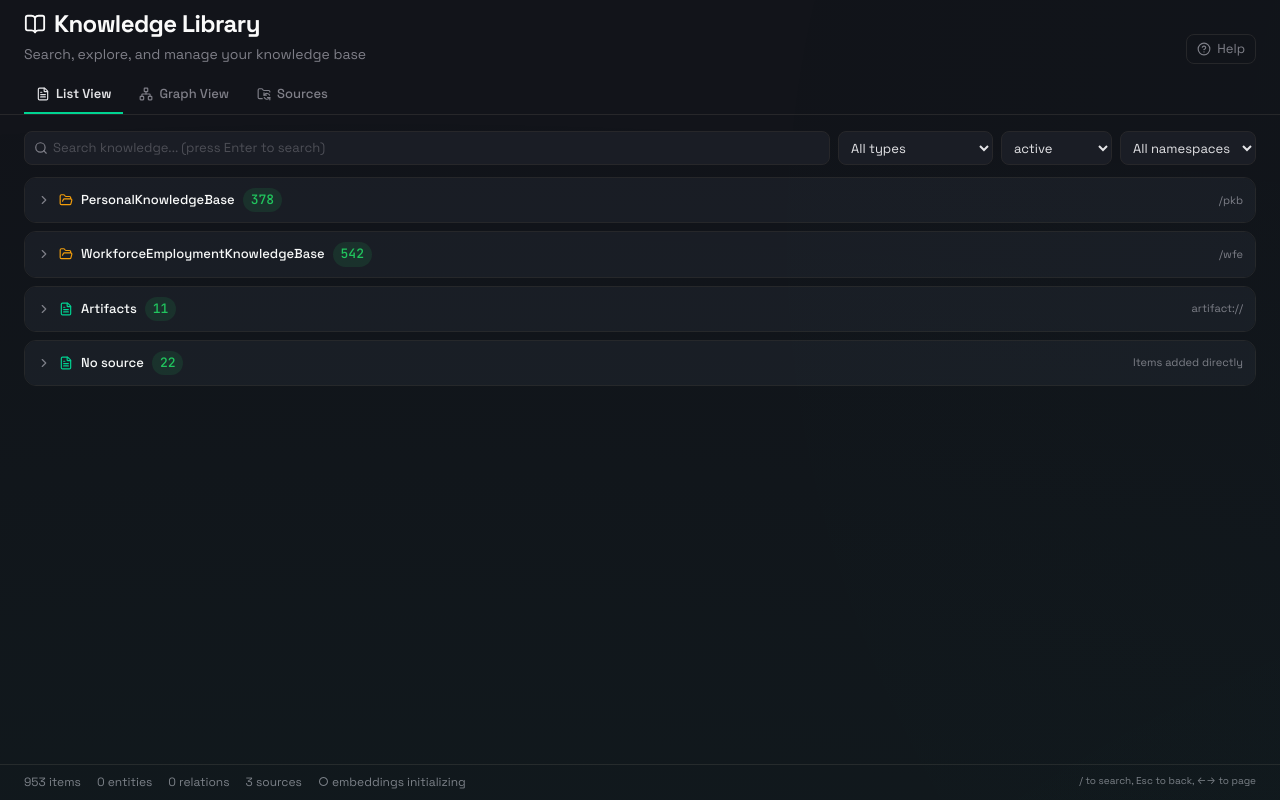
Test: Knowledge List View — source-first rows › drops selected IDs when their source collapses off screen
Click the text "Artifacts". click: {"x": 109, "y": 309}
box: x1=81 y1=299 x2=137 y2=319
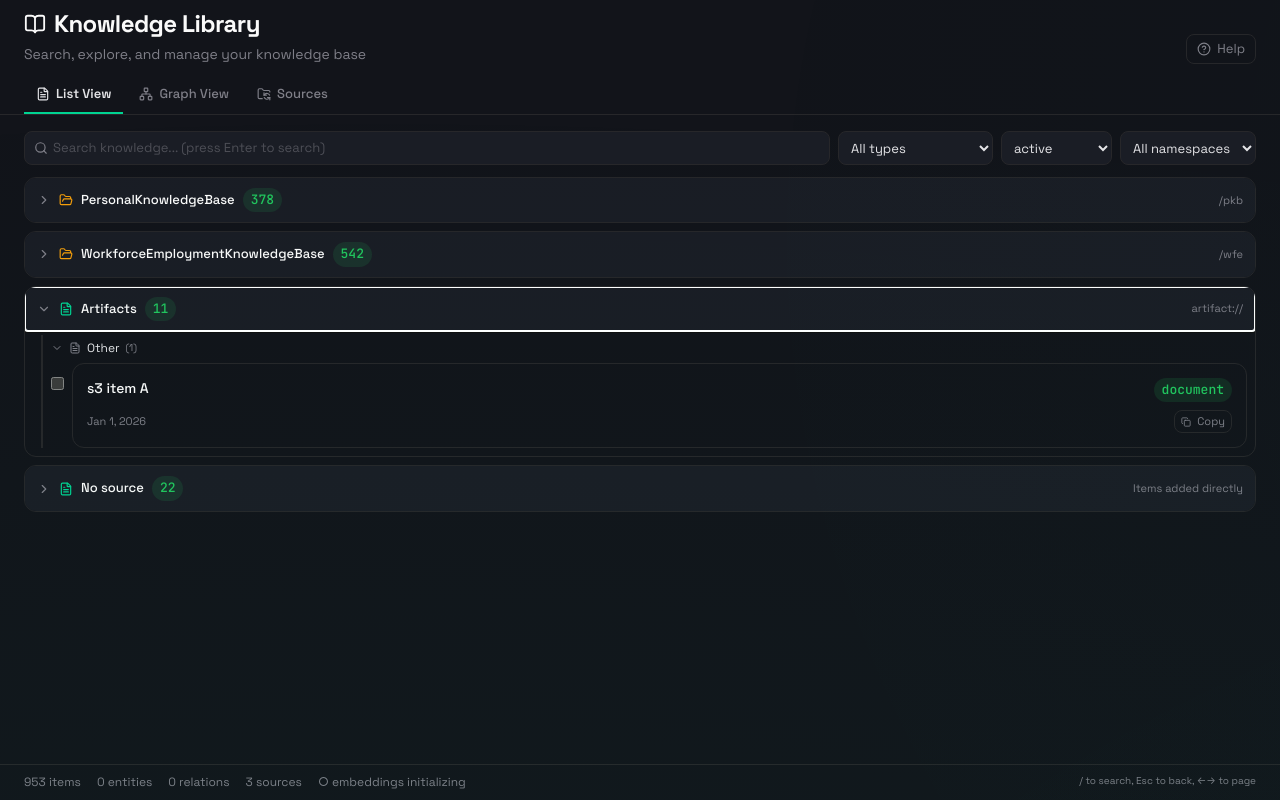
Click the checkbox named "Select s3 item A". click: {"x": 58, "y": 384}
box: x1=51 y1=377 x2=64 y2=390
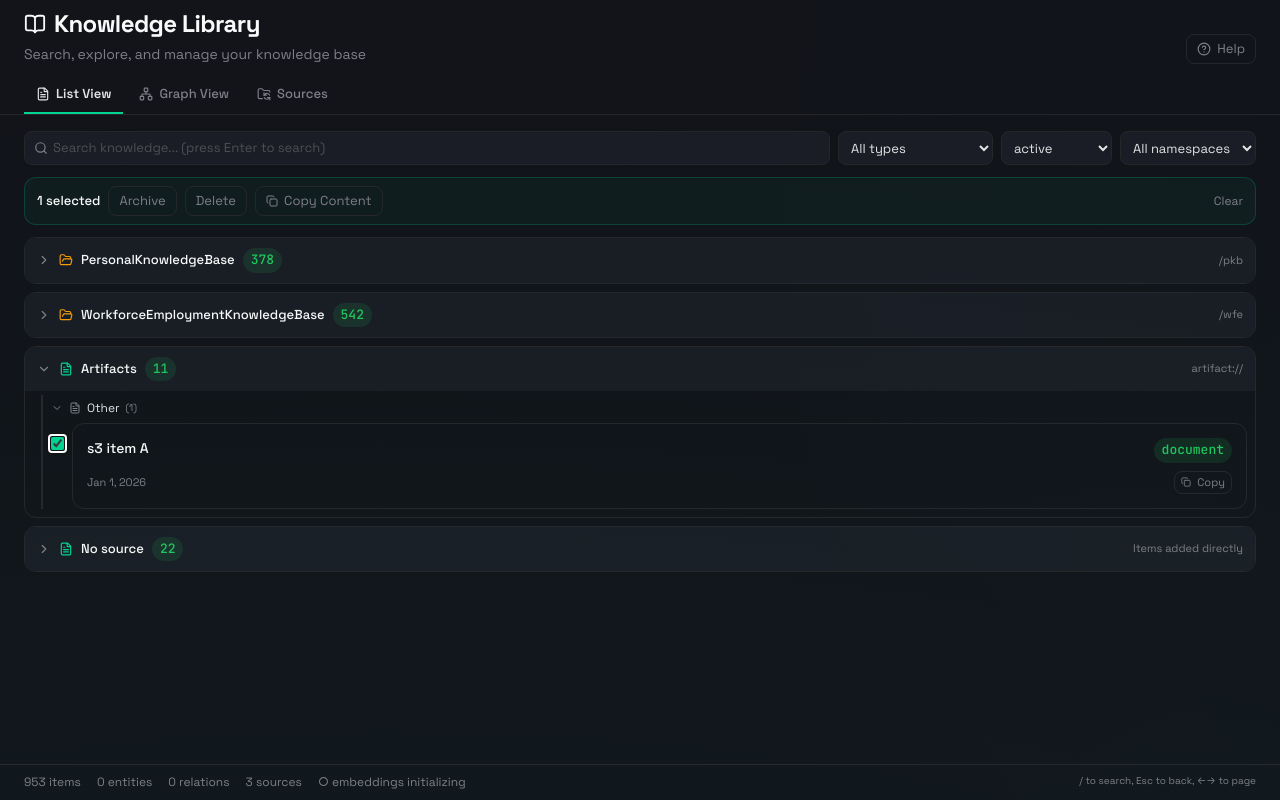
Check: the text "1 selected" is shown, box x1=37 y1=191 x2=100 y2=211
Click the text "Artifacts". click: {"x": 109, "y": 369}
box: x1=81 y1=359 x2=137 y2=379
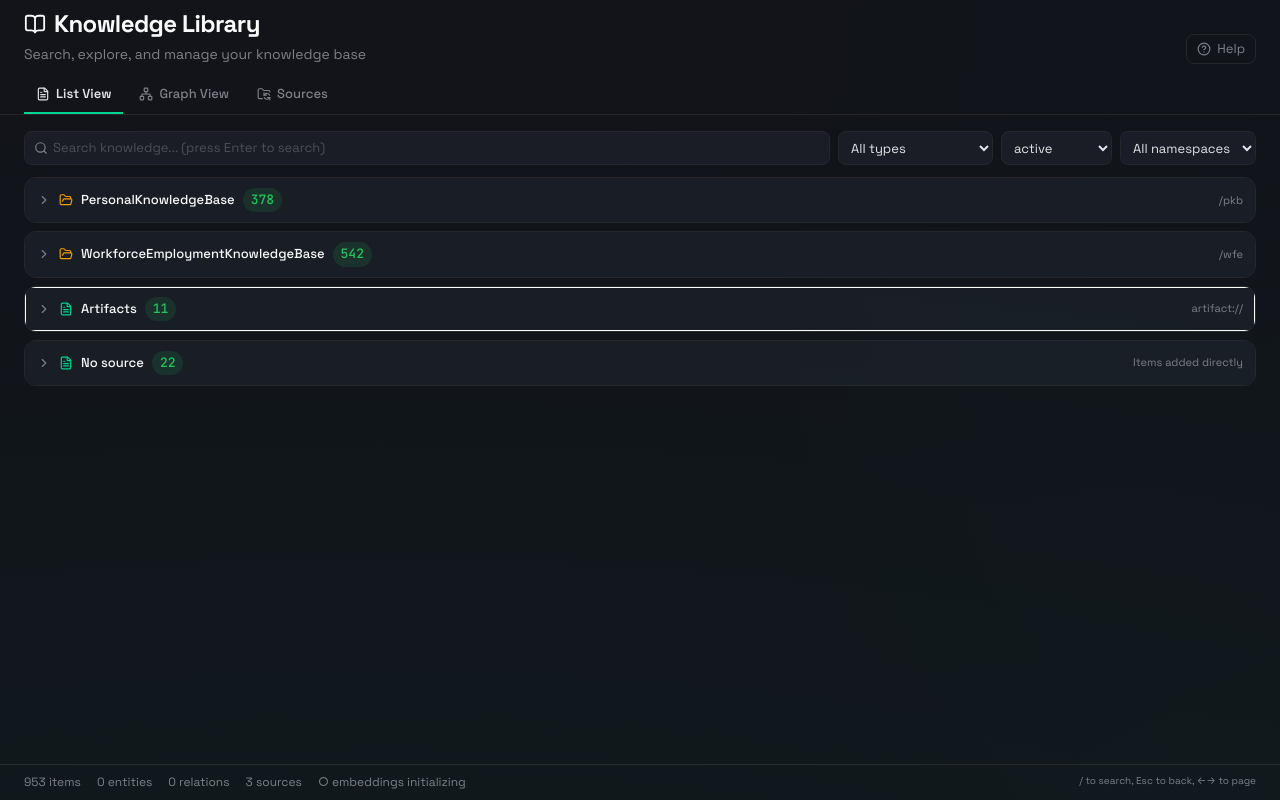
Check: the text "1 selected" is gone
